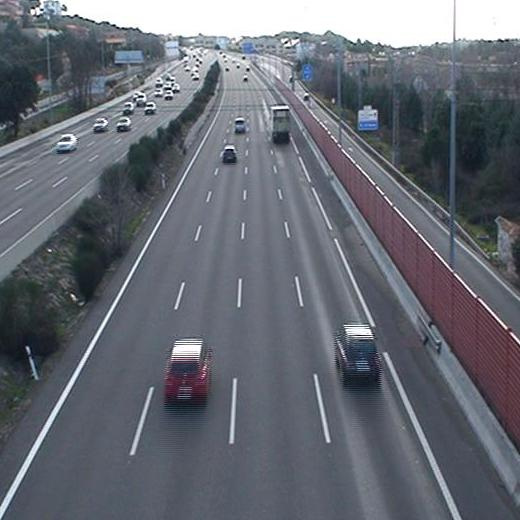car: (160, 335, 218, 410), (330, 317, 384, 390), (220, 143, 239, 166), (232, 116, 248, 137)
truck: (265, 100, 297, 149)
